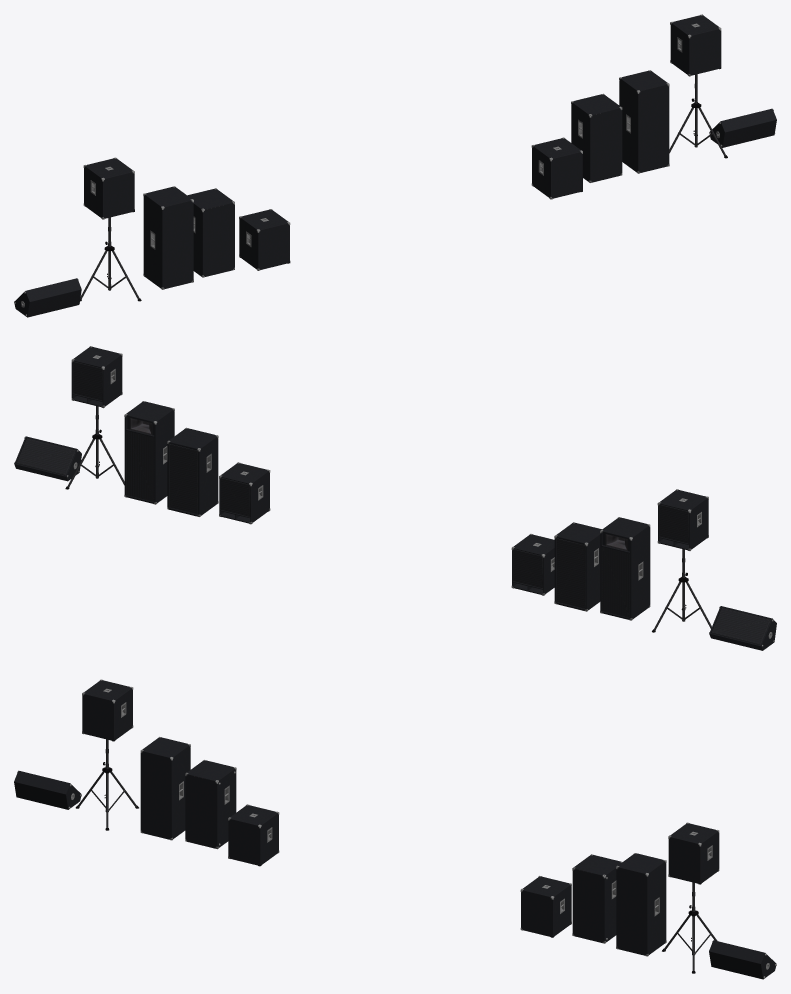
3 renders of one model, top to bottom at view 1: azimuth 30°, elevation 25°; view 2: azimuth 150°, elevation 25°; view 3: azimuth 330°, elevation 25°, orthographic.
Visible parts, largest first — view 1: Speakers04_11, Speakers04 (1)_12, Speakers03 (1)_10, Speakers03_9, Speakers02 (3)_7, Speakers02 (1)_6, Speakers02 (2)_8, Speakers02_5, Speakers01_3, Speakers01 (1)_4, SpeakerTripod01_1, SpeakerTripod01 (1)_2; view 2: Speakers04_11, Speakers04 (1)_12, Speakers03 (1)_10, Speakers03_9, Speakers02 (3)_7, Speakers02 (2)_8, Speakers02 (1)_6, Speakers02_5, Speakers01_3, Speakers01 (1)_4, SpeakerTripod01 (1)_2, SpeakerTripod01_1; view 3: Speakers04 (1)_12, Speakers04_11, Speakers03_9, Speakers03 (1)_10, Speakers02 (3)_7, Speakers02 (1)_6, Speakers02_5, Speakers02 (2)_8, Speakers01_3, Speakers01 (1)_4, SpeakerTripod01_1, SpeakerTripod01 (1)_2.
Part boxes in pixels (<box>): Speakers04_11: <box>143,186,193,289</box>; Speakers04 (1)_12: <box>619,70,669,173</box>; Speakers03 (1)_10: <box>571,93,622,182</box>; Speakers03_9: <box>187,188,234,277</box>; Speakers02 (3)_7: <box>670,14,721,76</box>; Speakers02 (1)_6: <box>83,157,134,219</box>; Speakers02 (2)_8: <box>531,137,582,199</box>; Speakers02_5: <box>239,209,290,270</box>; Speakers01_3: <box>14,278,81,317</box>; Speakers01 (1)_4: <box>709,108,776,147</box>; SpeakerTripod01_1: <box>80,217,141,301</box>; SpeakerTripod01 (1)_2: <box>669,74,727,158</box>; Speakers04_11: <box>600,517,650,620</box>; Speakers04 (1)_12: <box>124,401,174,504</box>; Speakers03 (1)_10: <box>167,427,218,516</box>; Speakers03_9: <box>554,522,601,611</box>; Speakers02 (3)_7: <box>71,346,122,408</box>; Speakers02 (2)_8: <box>219,462,270,524</box>; Speakers02 (1)_6: <box>657,489,708,550</box>; Speakers02_5: <box>511,534,554,595</box>; Speakers01_3: <box>709,606,776,650</box>; Speakers01 (1)_4: <box>14,436,81,481</box>; SpeakerTripod01 (1)_2: <box>65,406,124,489</box>; SpeakerTripod01_1: <box>652,549,711,632</box>; Speakers04 (1)_12: <box>616,853,666,956</box>; Speakers04_11: <box>140,737,190,840</box>; Speakers03_9: <box>185,760,236,849</box>; Speakers03 (1)_10: <box>572,854,622,943</box>; Speakers02 (3)_7: <box>668,822,719,884</box>; Speakers02 (1)_6: <box>82,679,133,741</box>; Speakers02_5: <box>228,804,279,866</box>; Speakers02 (2)_8: <box>520,876,571,937</box>; Speakers01_3: <box>14,770,81,809</box>; Speakers01 (1)_4: <box>709,940,776,979</box>; SpeakerTripod01_1: <box>75,739,138,830</box>; SpeakerTripod01 (1)_2: <box>662,882,717,973</box>.
Bounding box in the file's own units: 14.4 × 2.31 × 1.06.
Materials: 5 (5 with a texture image).
